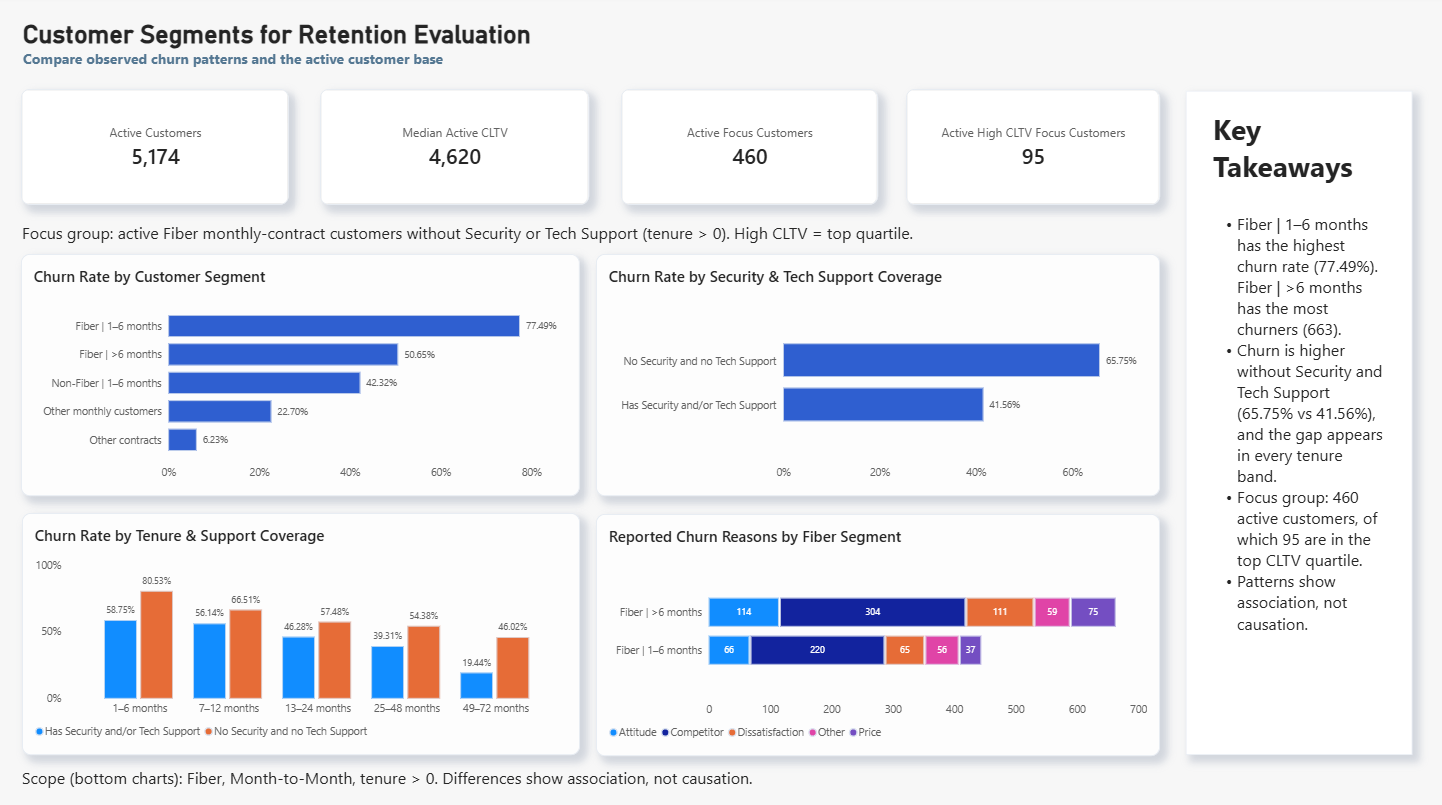

The dashboard page shown, as its layout file describes it:
{"tool":"powerbi","page":{"name":"Retention Priorities","canvas":[1920,1080],"ordinal":1},"visuals":[{"type":"textbox","box":[31.5,31.5,761.7,78],"z":0},{"type":"cardVisual","fields":{"Data":["Telco.Active Customers"]},"box":[29.3,123.7,356.5,154.3],"z":1000},{"type":"cardVisual","fields":{"Data":["Telco.Median Active CLTV"]},"box":[426.9,123.7,357.8,154.3],"z":2000},{"type":"clusteredBarChart","title":"Churn Rate by Customer Segment","fields":{"Category":["Telco.monthly_segment"],"Y":["Telco.Churn Rate"]},"box":[29.3,343.2,743.5,321.9],"z":3000},{"type":"clusteredBarChart","title":"Churn Rate by Security & Tech Support Coverage","fields":{"Category":["Telco.security_support_group"],"Y":["Telco.Fiber Monthly Churn Rate"]},"box":[794,343.2,750.1,321.9],"z":4000},{"type":"cardVisual","fields":{"Data":["Telco.Active Focus Customers"]},"box":[827.3,123.7,341.8,154.3],"z":5000},{"type":"cardVisual","fields":{"Data":["Telco.Active High CLTV Focus Customers"]},"box":[1206.4,123.7,337.8,154.3],"z":6000},{"type":"textbox","box":[30.9,1025.5,1194.7,42.7],"z":7000},{"type":"clusteredColumnChart","title":"Churn Rate by Tenure & Support Coverage","fields":{"Category":["Telco.tenure_group"],"Series":["Telco.security_support_group"],"Y":["Telco.Churn Rate"]},"box":[30.6,687.6,742.2,321.9],"z":8000},{"type":"barChart","title":"Reported Churn Reasons by Fiber Segment","fields":{"Category":["Telco.monthly_segment"],"Series":["Telco.churn_category"],"Y":["Telco.Churned Customers"]},"box":[794,689,750.1,321.9],"z":9000},{"type":"textbox","box":[30.9,300.1,1194.7,42.7],"z":10000},{"type":"shape","box":[1578.8,126.4,300.6,883.2],"z":10001},{"type":"textbox","box":[1614.7,151.6,227.4,803.3],"z":10002}]}

Visuals, with their boxes in screenshot pixels (x1, y1, x2, y2), scaled from the page's 1920x1080 canvas onto the 1442x805 screenshot:
textbox: 24:23:596:82
cardVisual - Telco.Active Customers: 22:92:290:207
cardVisual - Telco.Median Active CLTV: 321:92:589:207
"Churn Rate by Customer Segment" clusteredBarChart: 22:256:580:496
"Churn Rate by Security & Tech Support Coverage" clusteredBarChart: 596:256:1160:496
cardVisual - Telco.Active Focus Customers: 621:92:878:207
cardVisual - Telco.Active High CLTV Focus Customers: 906:92:1160:207
textbox: 23:764:920:796
"Churn Rate by Tenure & Support Coverage" clusteredColumnChart: 23:513:580:752
"Reported Churn Reasons by Fiber Segment" barChart: 596:514:1160:753
textbox: 23:224:920:256
shape: 1186:94:1412:753
textbox: 1213:113:1383:712
